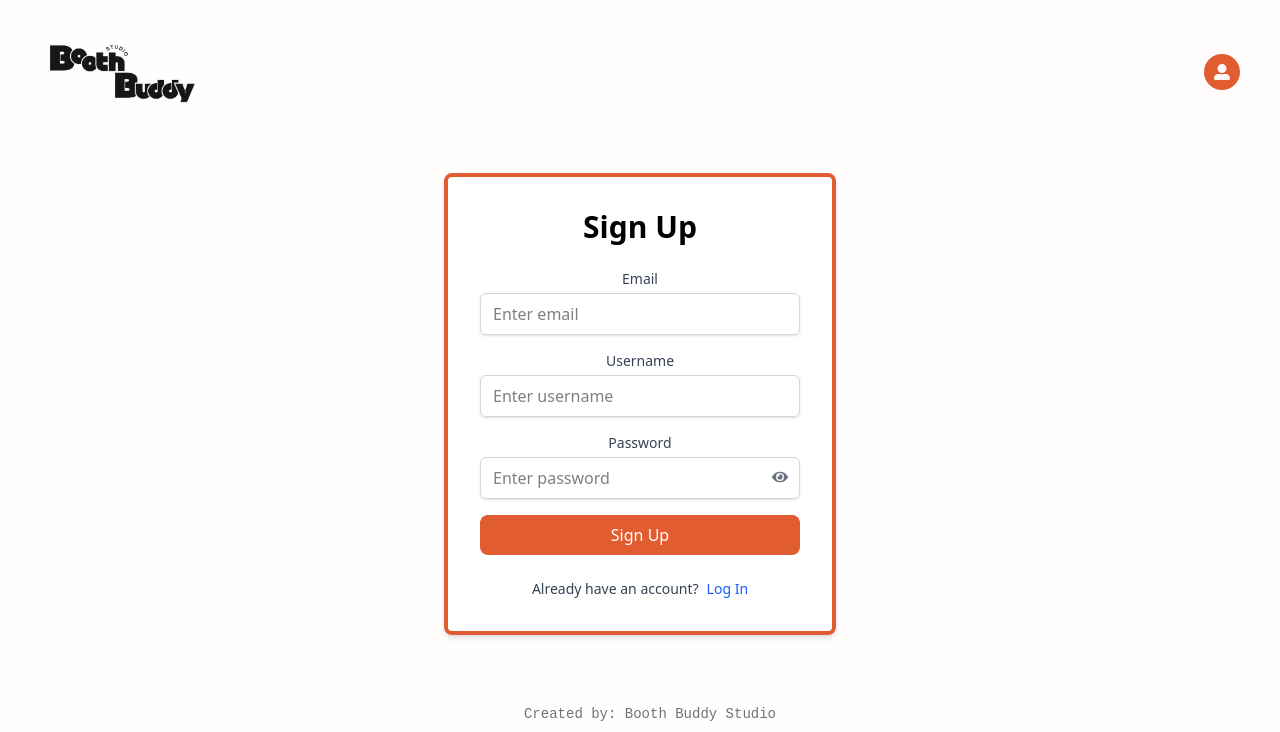
SignupPage Component › should show password checklist when password is entered
This screenshot has width=1280, height=732.
Type "Test123!" into the password field with placeholder "Enter password" at (640, 478), box x1=480 y1=457 x2=800 y2=499
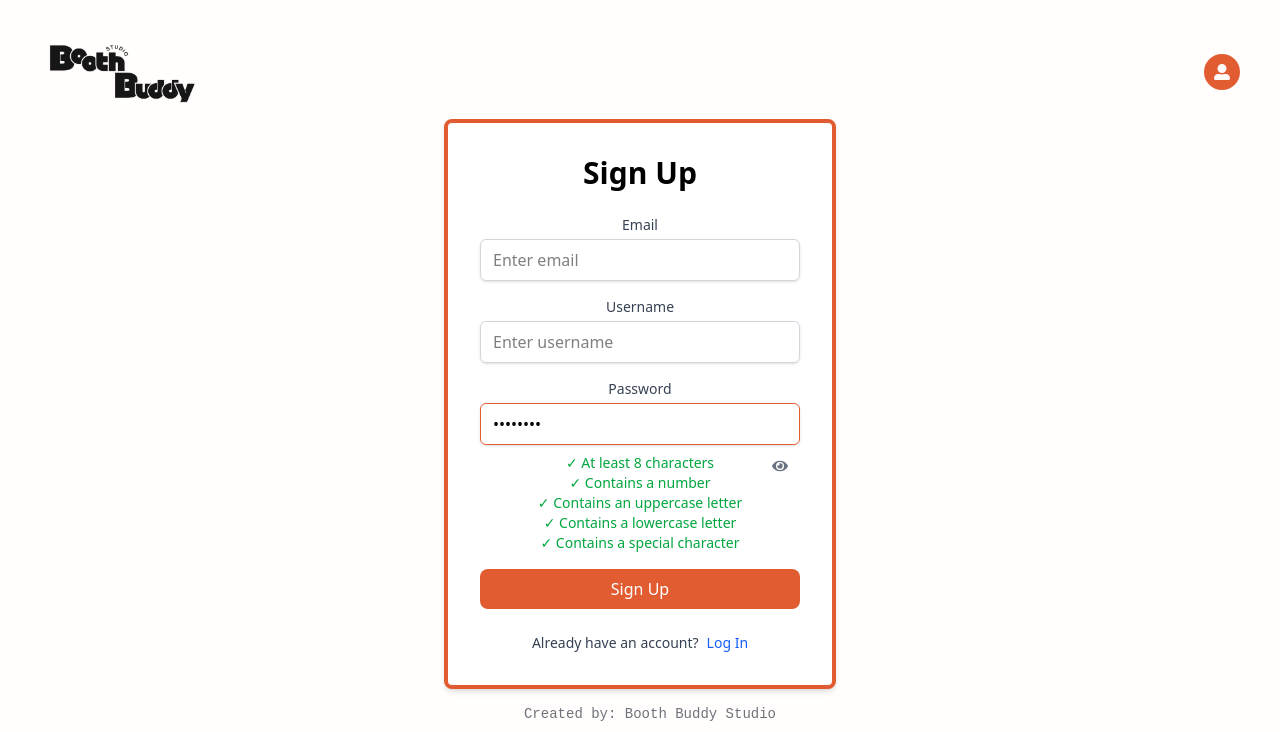
expect the list item "✓ At least 8 characters" is shown: met, box x1=566 y1=453 x2=714 y2=472
